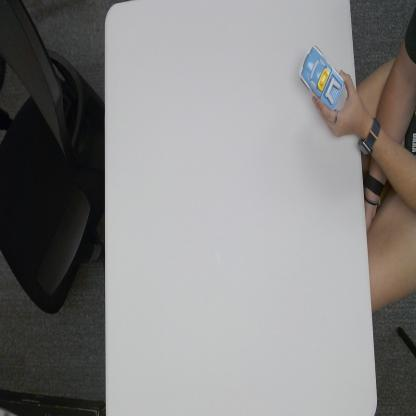Car: (298, 44, 344, 110)
Hand: (312, 69, 360, 139)
